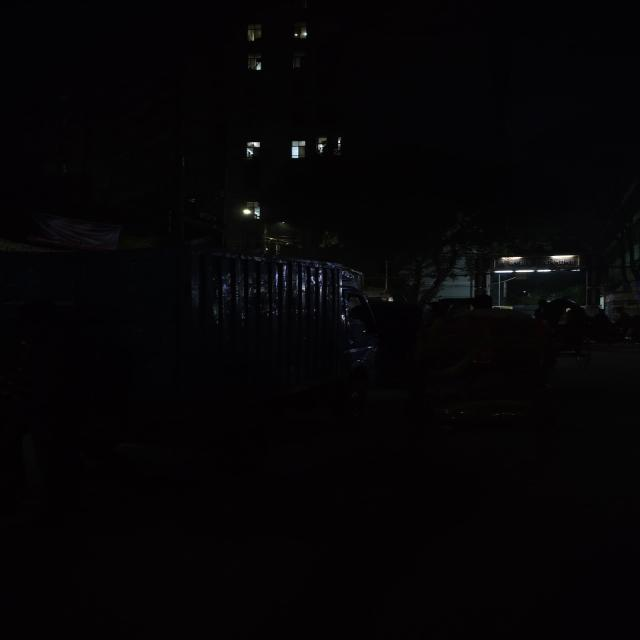rickshaw: (408, 302, 559, 492), (566, 302, 611, 346)
truck: (88, 249, 384, 481)
